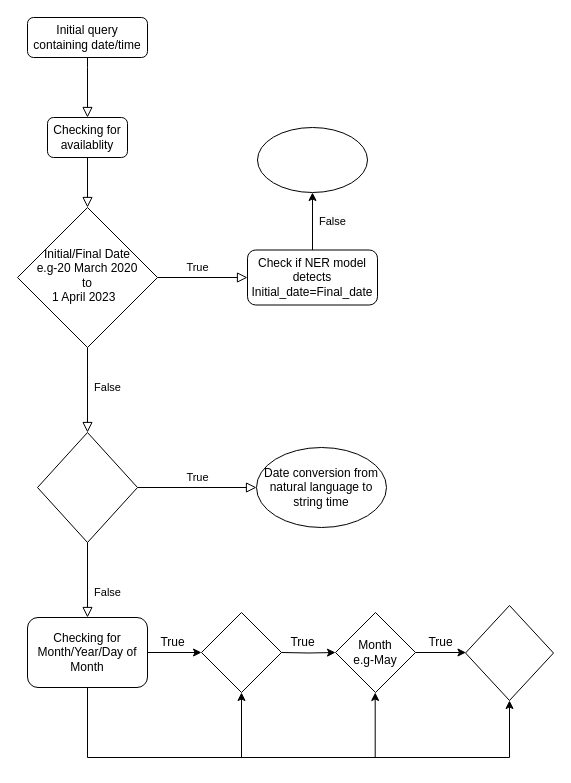
This 571x783 diagram has some shape labels left out. Here are the shapes that lost their labels. From the top down, the box of each, then its label:
(256, 126, 368, 192): Both date conversion from natural language to string time
(36, 432, 138, 542): Date e.g-23 March 2022
(200, 612, 282, 692): Year e.g-2024
(464, 604, 554, 700): Day of Month 3rd April
